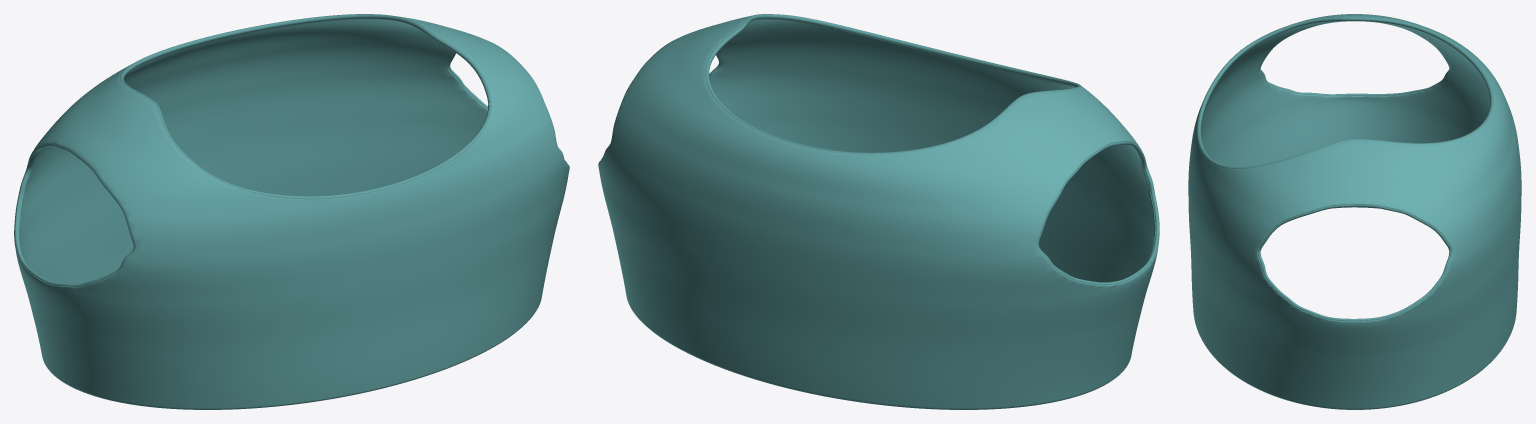
File: Masculine-tank-top.glb
3 views of the same model, side by side, from view 1: azimuth 30°, elevation 25°; view 2: azimuth 150°, elevation 25°; view 3: azimuth 270°, elevation 25° (orthographic). The views are drawn at different scales.
Visible parts, largest first — view 1: Clothing / tank, Neckline / fitted crew export, Tank / armhole binding -1 export, Shirt / seated hem export; view 2: Clothing / tank, Neckline / fitted crew export, Tank / armhole binding -1 export, Shirt / seated hem export; view 3: Clothing / tank, Neckline / fitted crew export, Tank / armhole binding 1 export, Tank / armhole binding -1 export.
Boxes of the visible parts, x1=… form: Clothing / tank: x1=14, y1=16, x2=569, y2=409; Neckline / fitted crew export: x1=120, y1=14, x2=492, y2=199; Tank / armhole binding -1 export: x1=14, y1=143, x2=134, y2=286; Shirt / seated hem export: x1=75, y1=337, x2=509, y2=409; Clothing / tank: x1=598, y1=15, x2=1159, y2=409; Neckline / fitted crew export: x1=705, y1=14, x2=1081, y2=154; Tank / armhole binding -1 export: x1=1037, y1=141, x2=1159, y2=285; Shirt / seated hem export: x1=655, y1=333, x2=1104, y2=409; Clothing / tank: x1=1188, y1=14, x2=1521, y2=409; Neckline / fitted crew export: x1=1196, y1=17, x2=1493, y2=168; Tank / armhole binding 1 export: x1=1258, y1=204, x2=1451, y2=321; Tank / armhole binding -1 export: x1=1260, y1=69, x2=1449, y2=96.
Bounding box in the file's own units: 0.7266 × 0.3438 × 0.4506.
